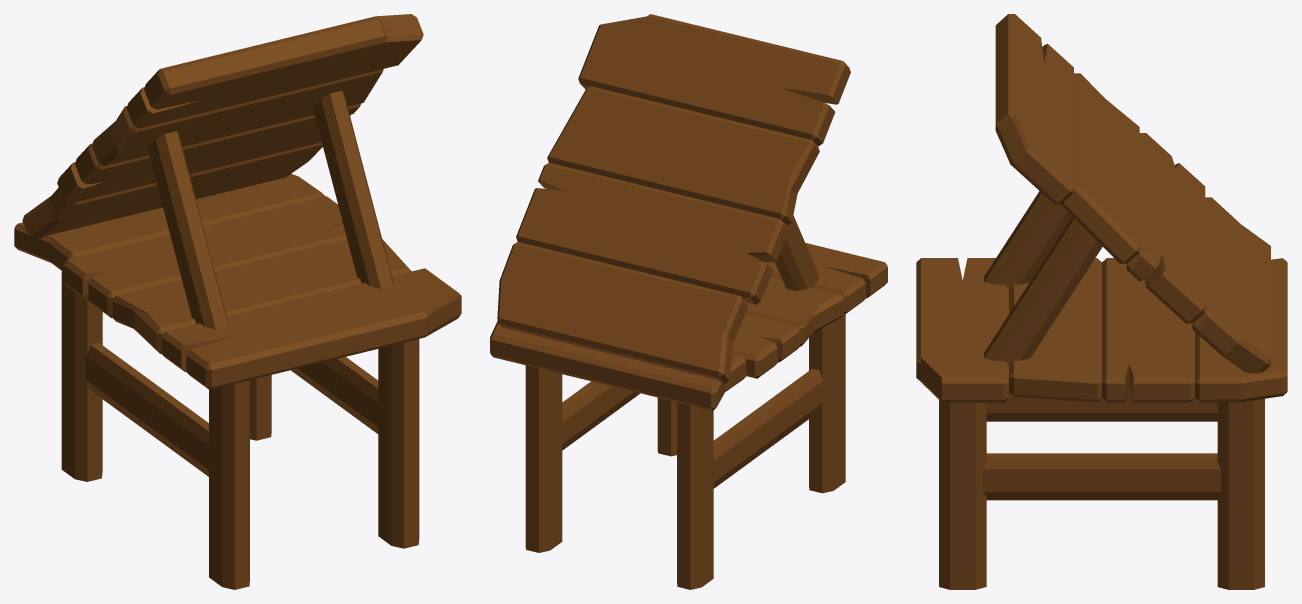
The model's file is Table_Paper.fbx.
3 renders of one model, left to right at view 1: azimuth 30°, elevation 25°; view 2: azimuth 150°, elevation 25°; view 3: azimuth 270°, elevation 25°, orthographic. The views are drawn at different scales.
Parts seen in each view (by area): view 1: Table.002; view 2: Table.002; view 3: Table.002.
Part boxes in pixels (x1,y1,x2,y2): Table.002: (14,14,461,589); Table.002: (490,14,887,589); Table.002: (916,14,1287,589).
Size of the model in its own units: 80.86 by 145 by 103.
